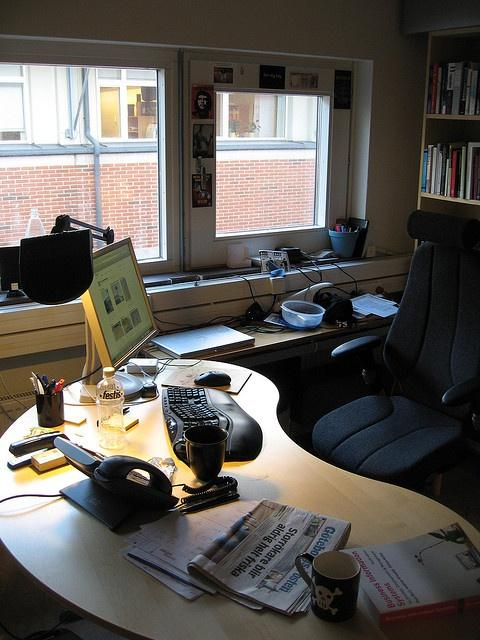AIO PC-Monitor-TV: (78, 236, 159, 378)
Kursi: (311, 208, 479, 482)
Rak: (415, 23, 479, 208)
